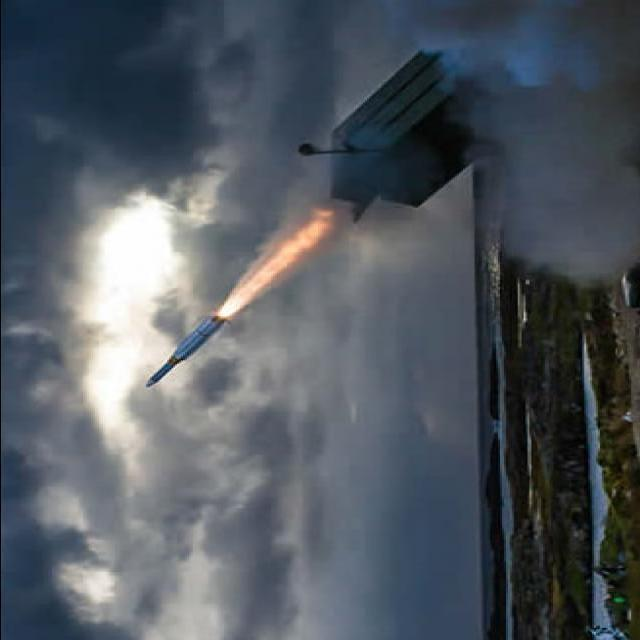missile: (145, 308, 220, 392)
